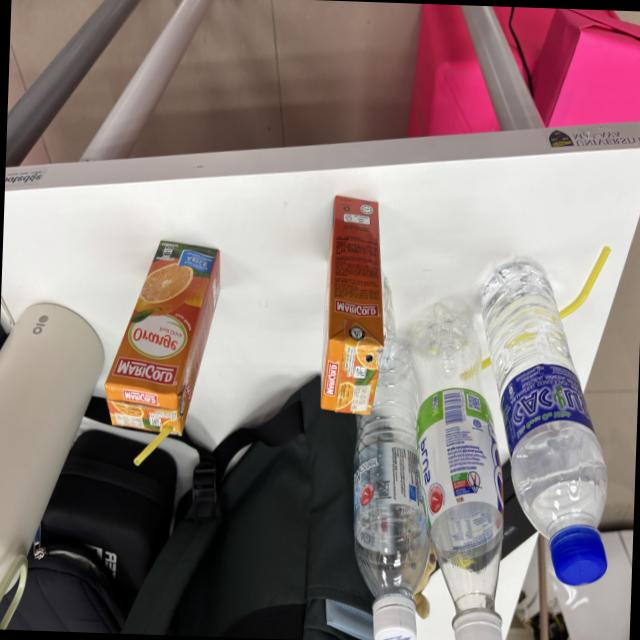drink_carton: (98, 233, 238, 468), (310, 186, 408, 429)
plastic_bottle: (464, 246, 626, 591), (391, 284, 515, 640), (338, 318, 448, 640)
